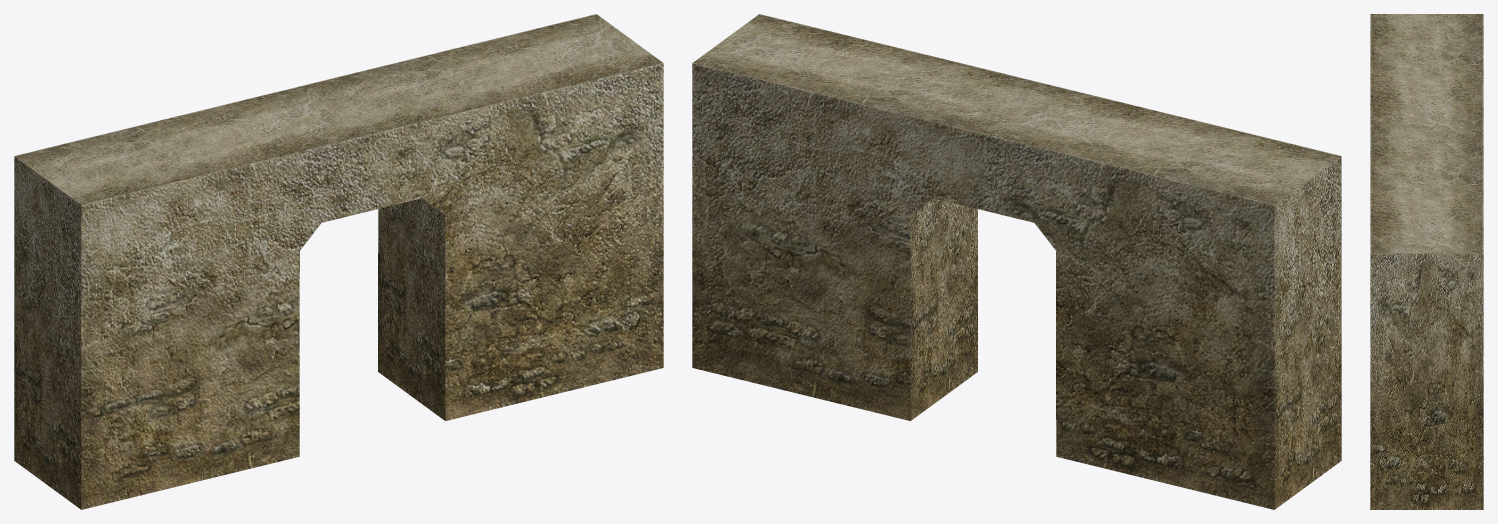
Rendered from hrt_wall1.glb.
3 renders of one model, left to right at view 1: azimuth 30°, elevation 25°; view 2: azimuth 150°, elevation 25°; view 3: azimuth 270°, elevation 25°, orthographic. The views are drawn at different scales.
Visible parts, largest first — view 1: hrt_wall1; view 2: hrt_wall1; view 3: hrt_wall1.
Boxes of the visible parts, bbox=[...] form: hrt_wall1: bbox=[14, 14, 663, 509]; hrt_wall1: bbox=[692, 14, 1341, 509]; hrt_wall1: bbox=[1370, 14, 1483, 509].
Size of the model in its own units: 8 by 4 by 1.6.
Materials: 4 (4 with a texture image).
